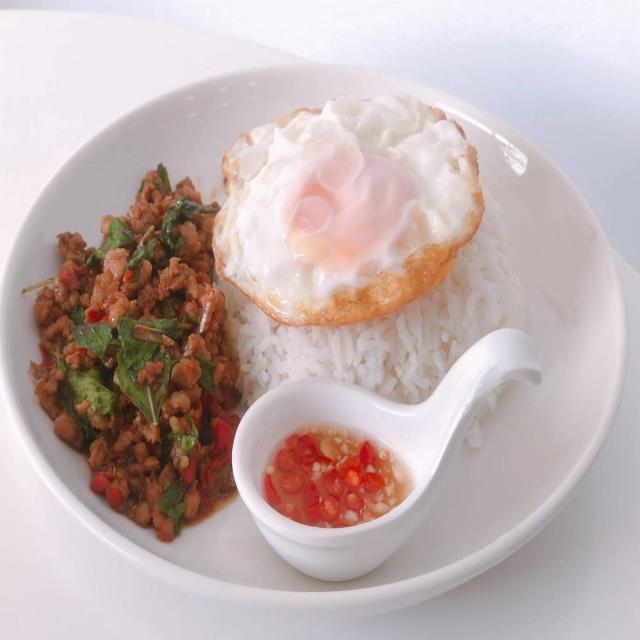Carbohydrate: (214, 160, 518, 456)
Kaow-Padkrapao: (24, 73, 598, 617)
Protein: (31, 167, 229, 533), (214, 91, 482, 319)
Vegetable: (64, 308, 191, 436), (84, 190, 217, 280)
